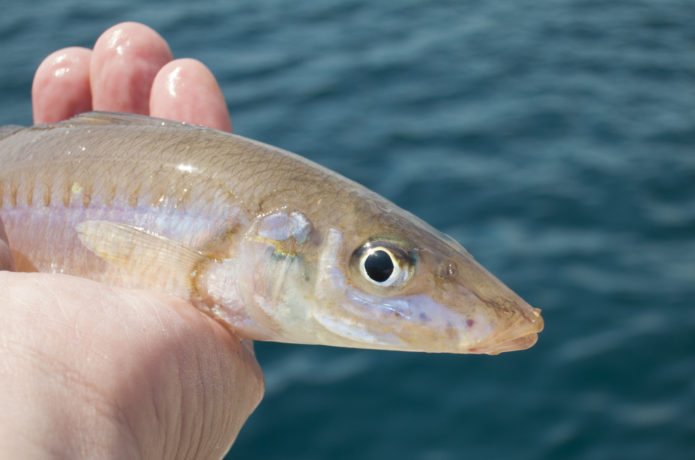kiss: (6, 106, 549, 365)
